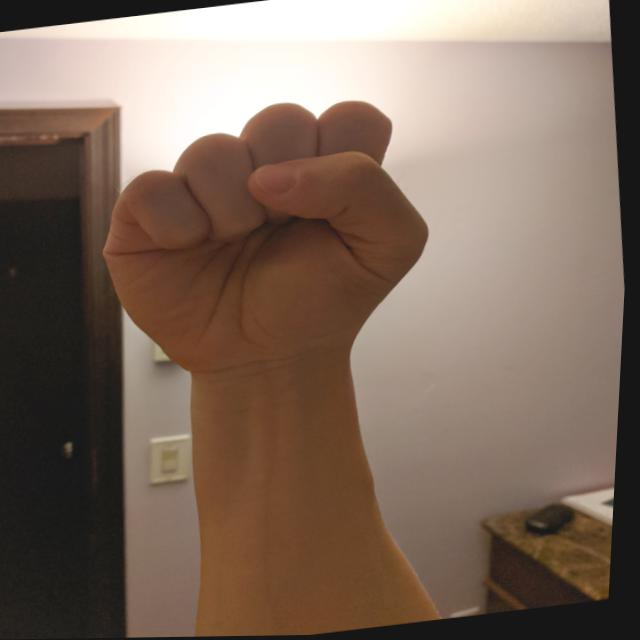S: (79, 78, 459, 393)
